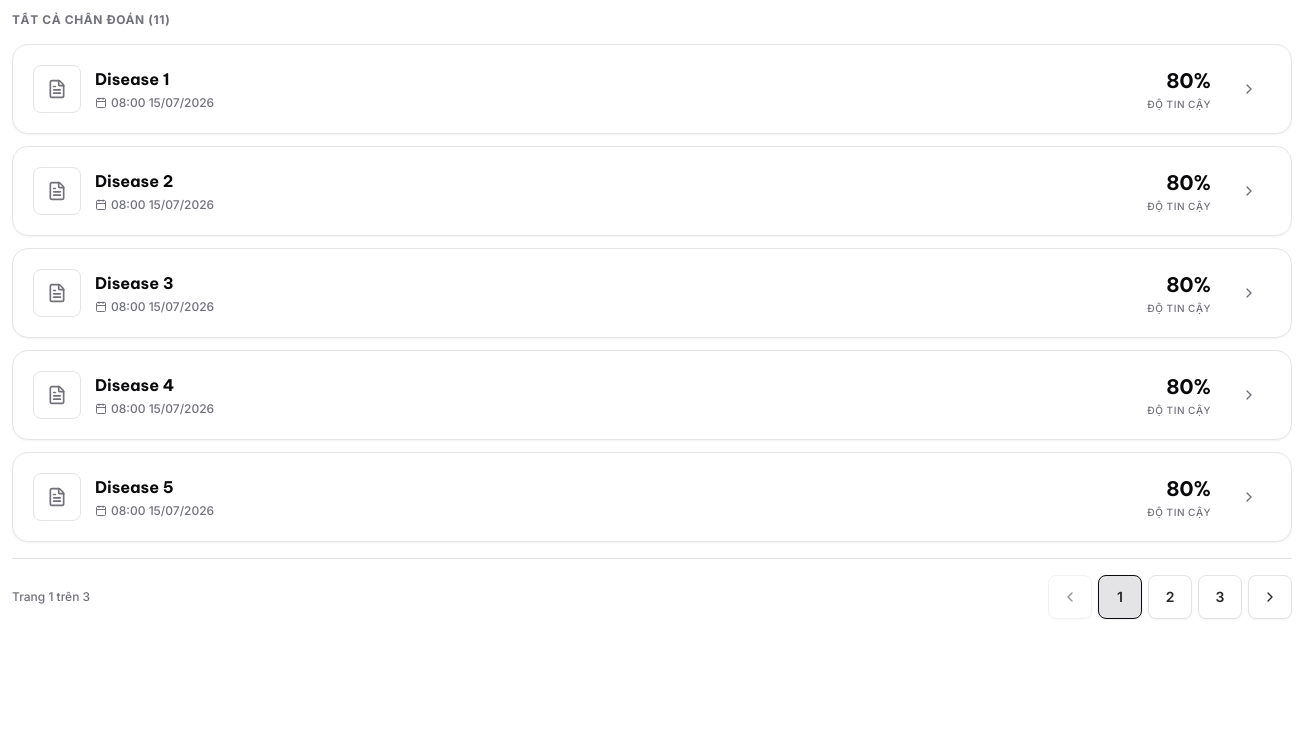
HistoryList pagination › navigates deterministically across three pages for eleven records
Expected: the heading "Disease 1" is shown, 95,69 -> 170,89
Expected: the text "Trang 1 trên 3" is shown, 12,589 -> 90,605
Click the button named "Trang 2" at (1170,597), box 1148,575 -> 1192,619
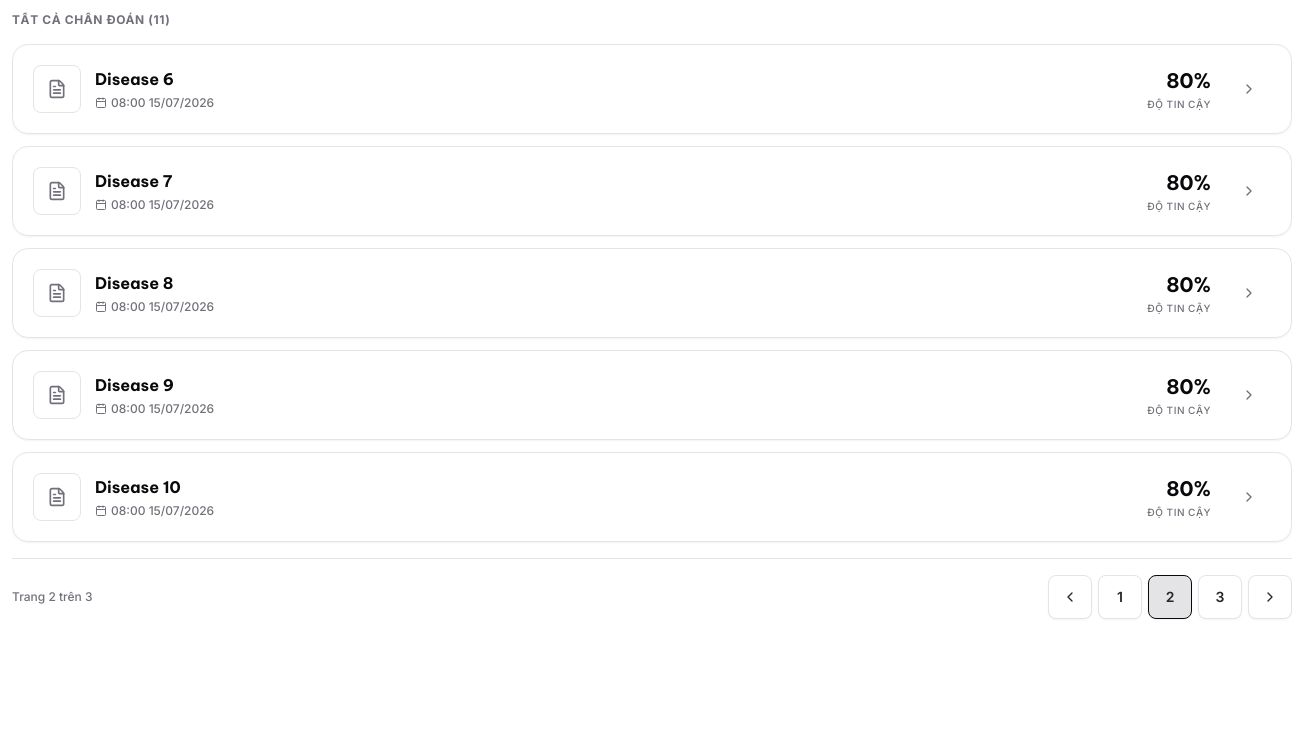
Now the heading "Disease 6" is shown, box 95,69 -> 174,89
Now the text "Trang 2 trên 3" is shown, box 12,589 -> 92,605
Click the button named "Trang sau" at (1270,597), box 1248,575 -> 1292,619
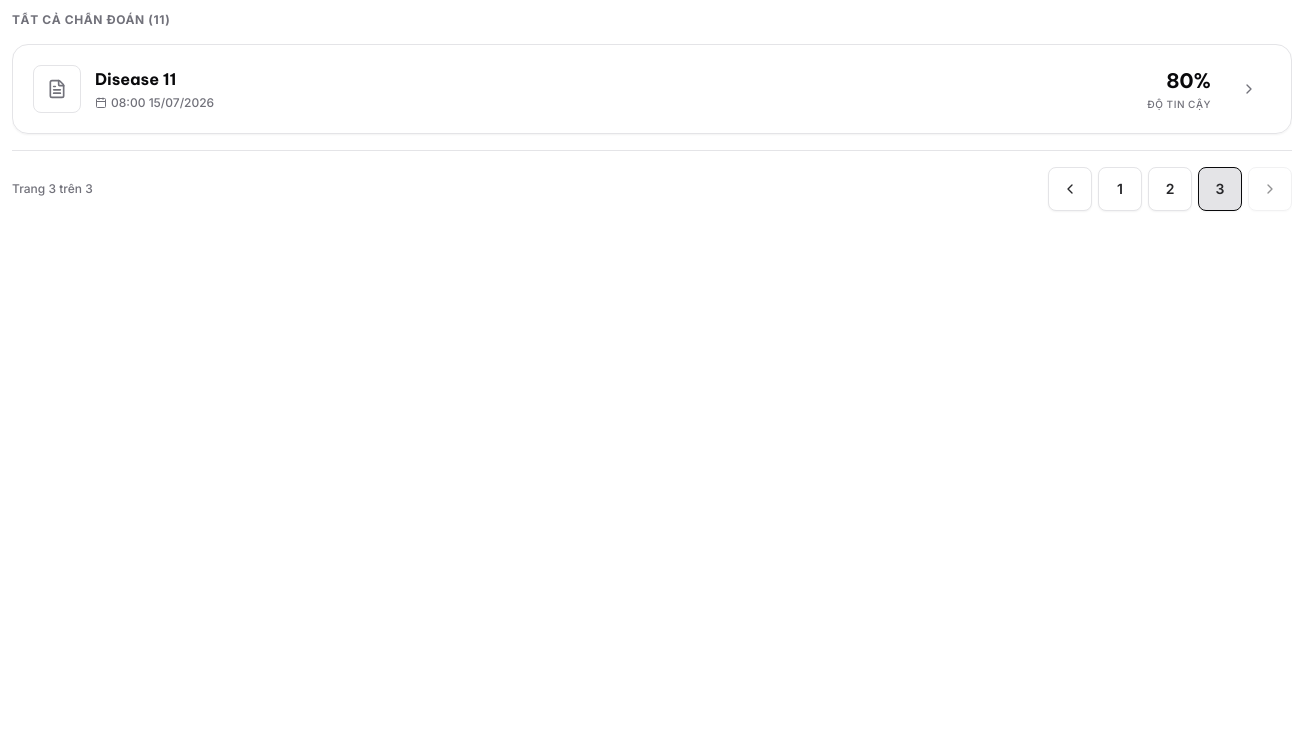
Now the heading "Disease 11" is shown, box 95,69 -> 176,89
Now the text "Trang 3 trên 3" is shown, box 12,181 -> 93,197
Now the button named "Trang sau" is disabled, box 1248,167 -> 1292,211
